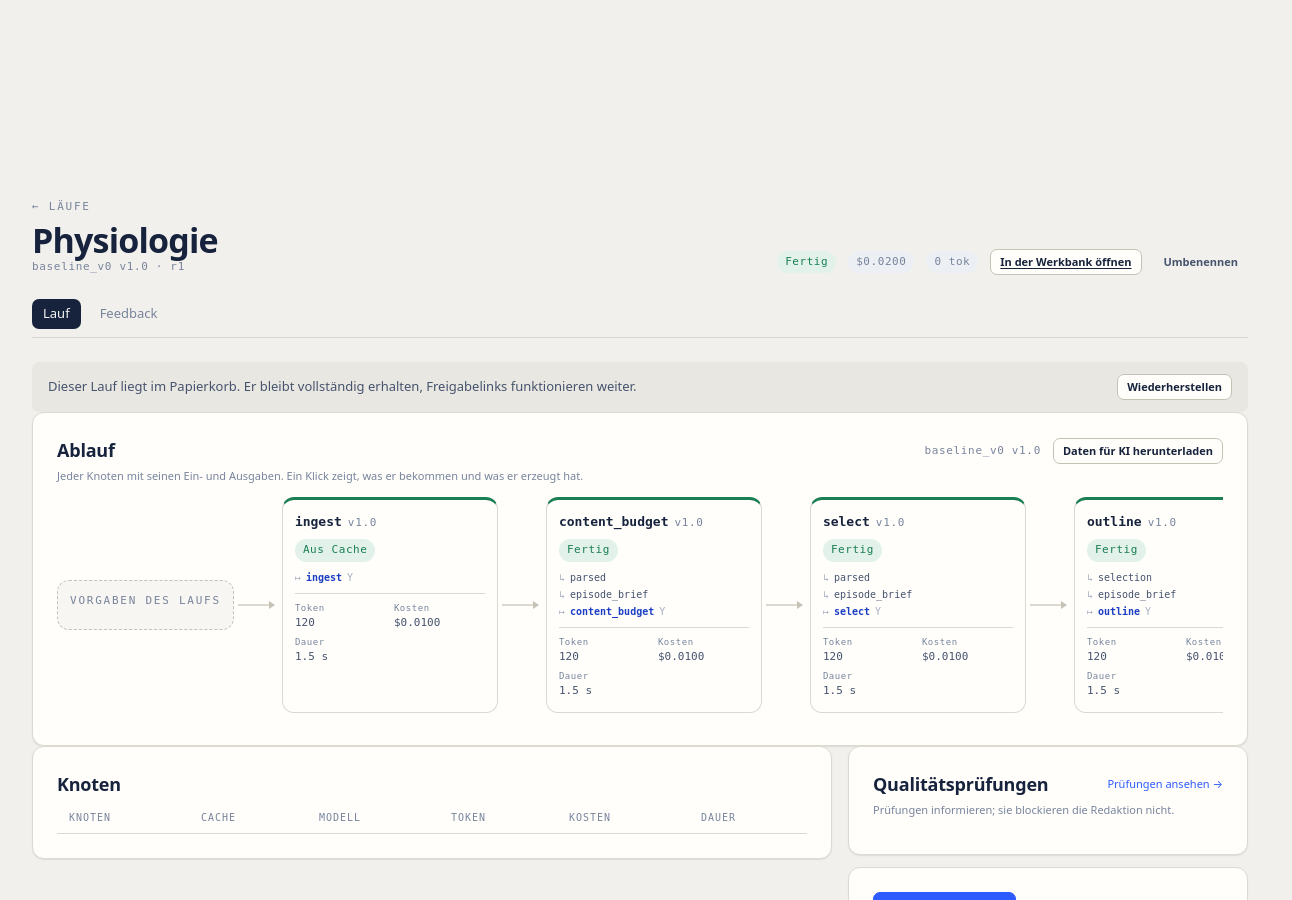
Test case: run detail › offers the data download in the graph header, including while the run is in the trash
This screenshot has width=1292, height=900.
(page scrolled)
Click the button "Daten für KI herunterladen" at (1138, 451), box x1=1053 y1=438 x2=1223 y2=464
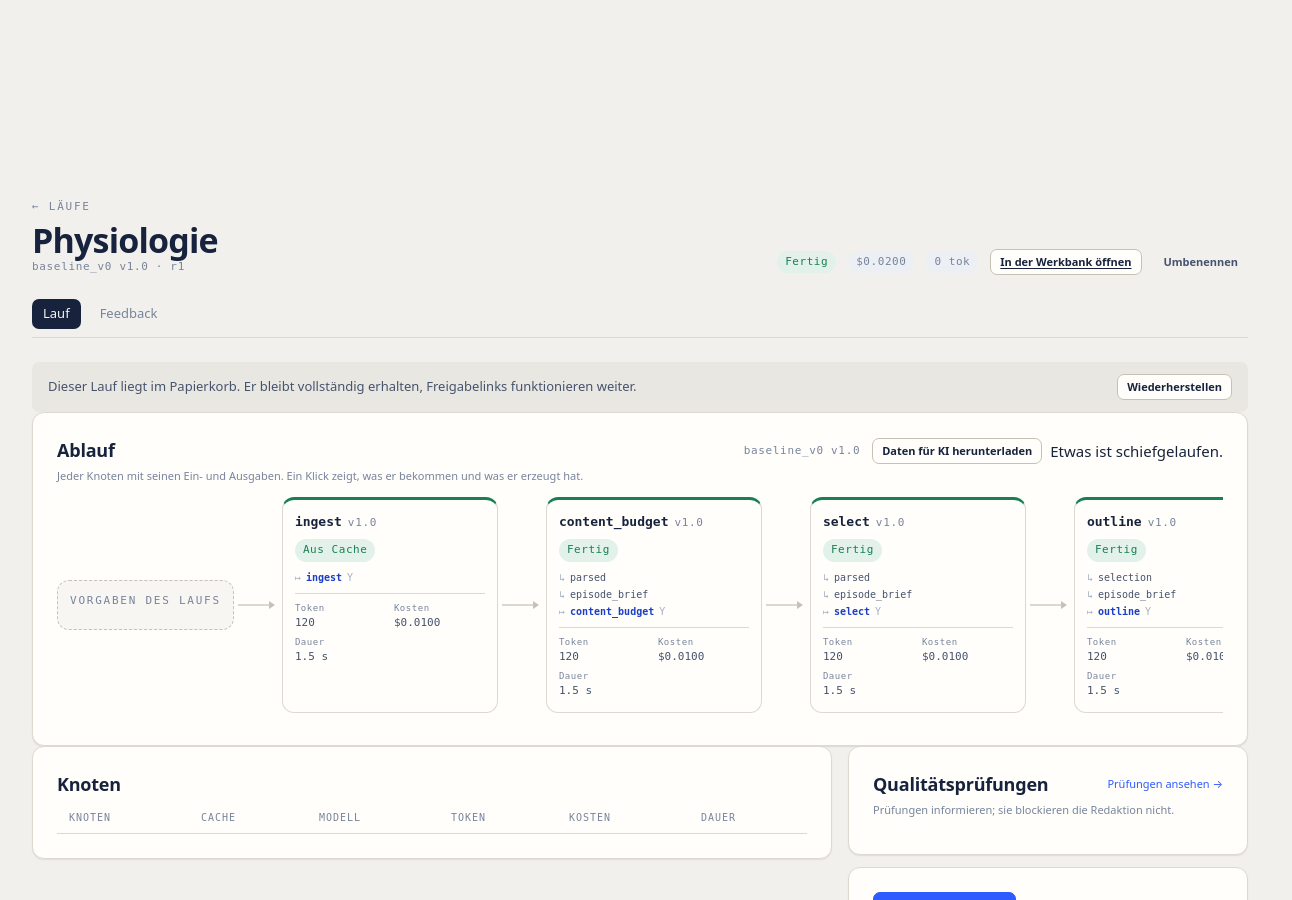
Check: the message "Etwas ist schiefgelaufen." is shown, box x1=1050 y1=440 x2=1223 y2=462
